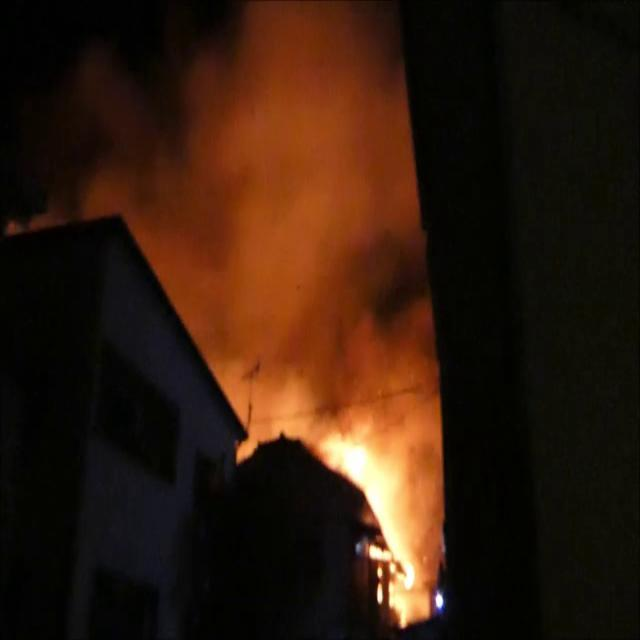Fire: (338, 408, 427, 622)
Smoke: (12, 2, 454, 584)
